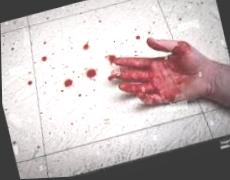Fire: (0, 0, 230, 179), (108, 39, 230, 111), (86, 69, 97, 80), (64, 79, 73, 88), (83, 42, 89, 50), (41, 56, 48, 61), (135, 36, 141, 41), (27, 80, 32, 85), (79, 95, 82, 97)
